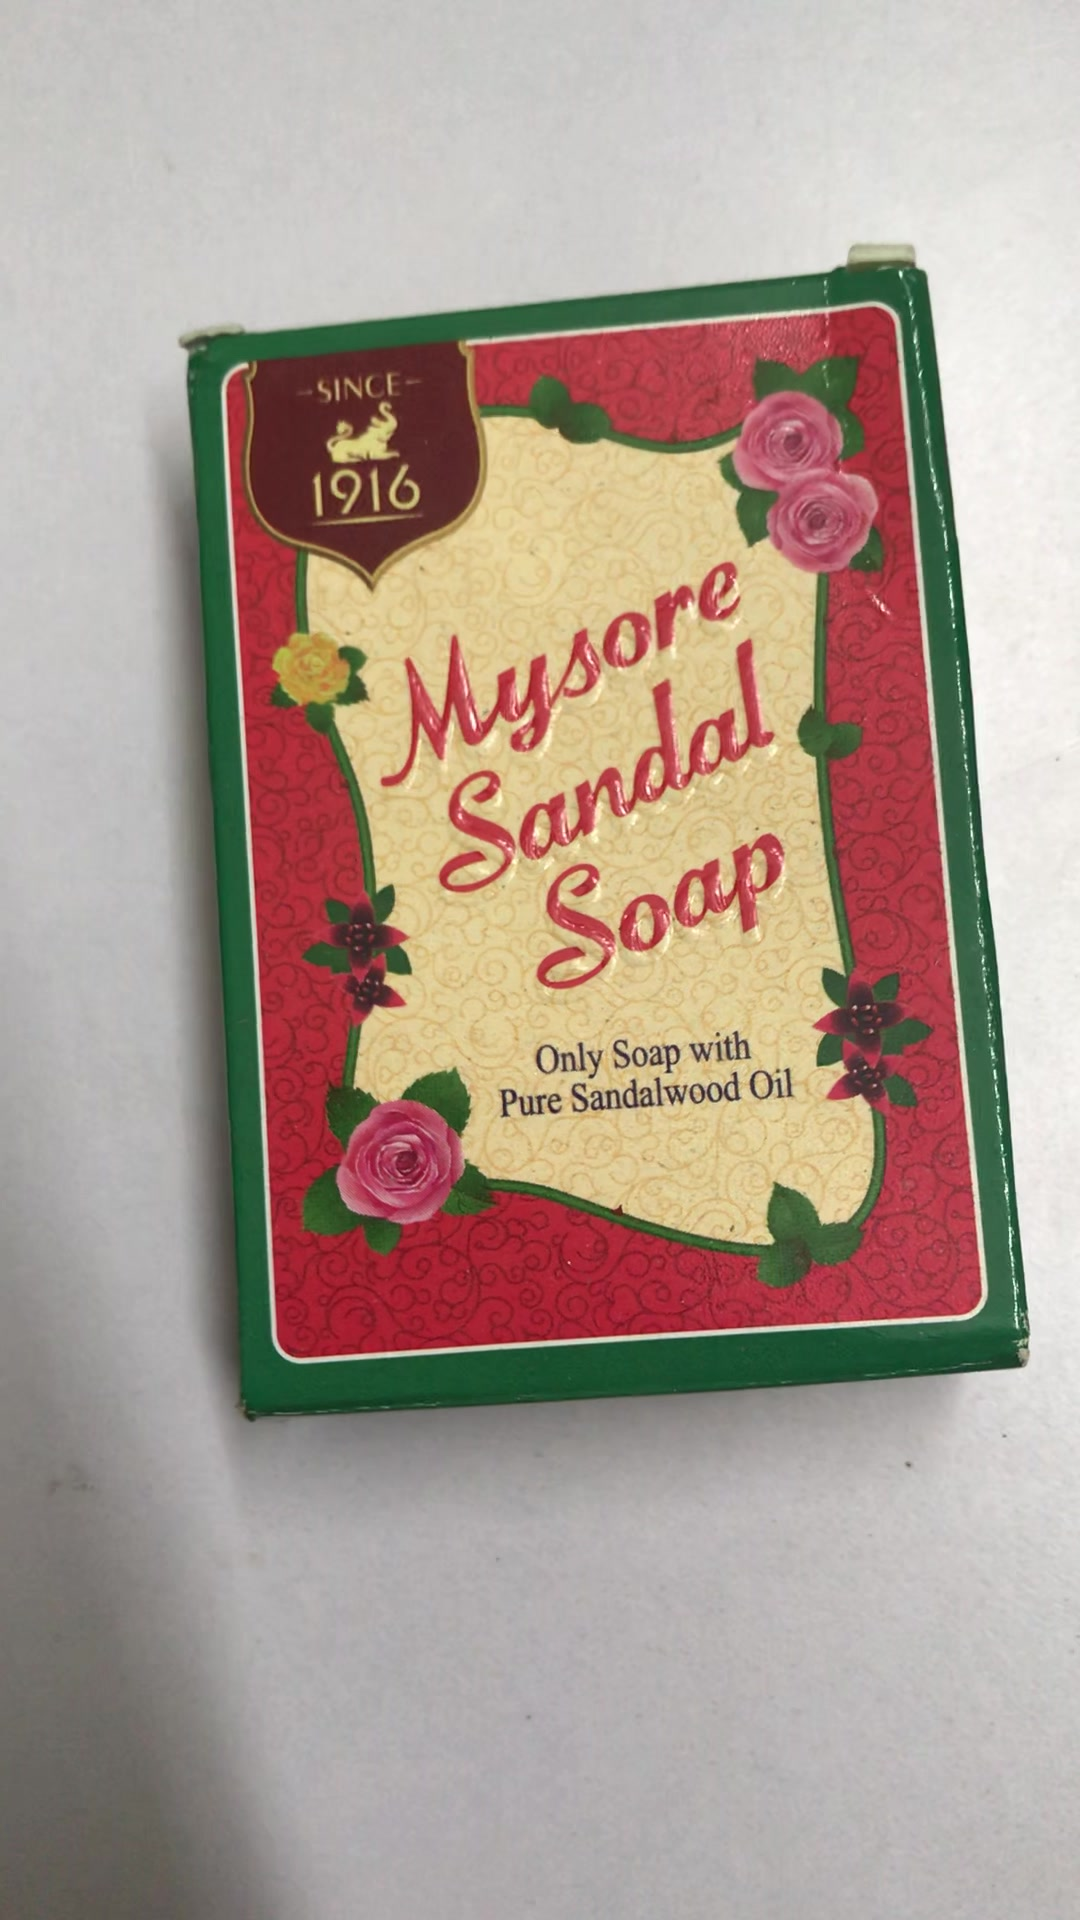mysore sandal soap: (189, 269, 1025, 1415)
